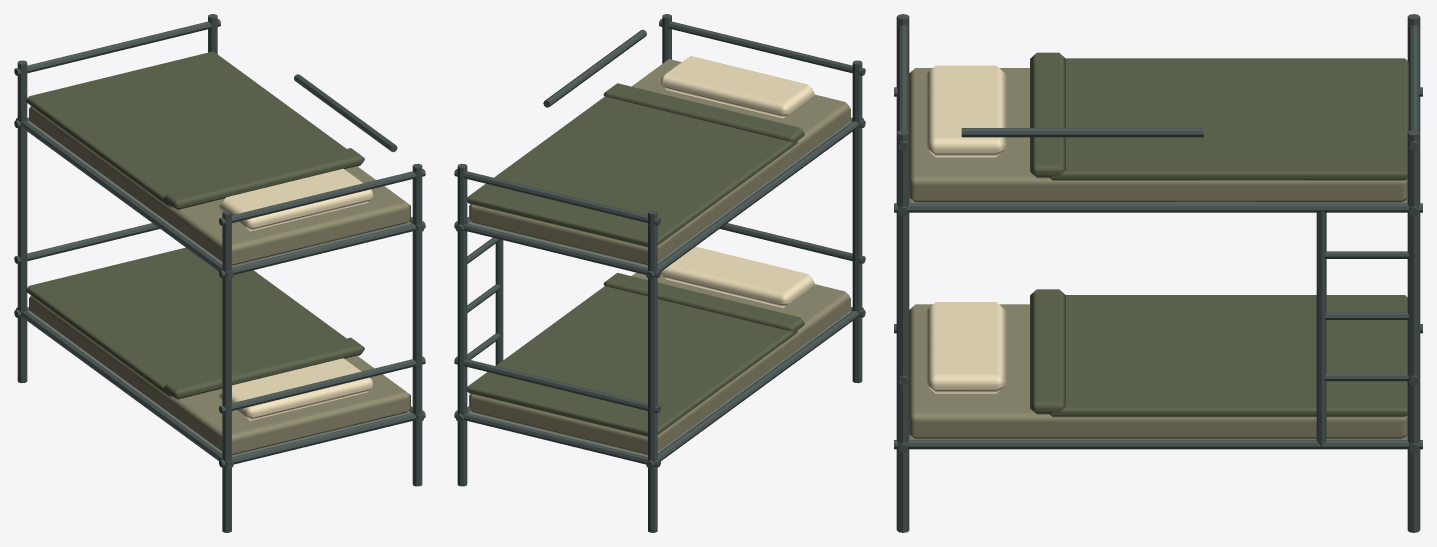
File: BunkBed.glb
The picture shows the model from 3 angles, left to right: view 1: azimuth 30°, elevation 25°; view 2: azimuth 150°, elevation 25°; view 3: azimuth 270°, elevation 25°; orthographic projection. The views are drawn at different scales.
Visible parts, largest first — view 1: BunkBed.001; view 2: BunkBed.001; view 3: BunkBed.001.
Part boxes in pixels (bbox=[...]): BunkBed.001: bbox=[14, 14, 425, 532]; BunkBed.001: bbox=[454, 14, 865, 532]; BunkBed.001: bbox=[894, 14, 1422, 532].
Size of the model in its own units: 1.3 by 1.97 by 2.35.
